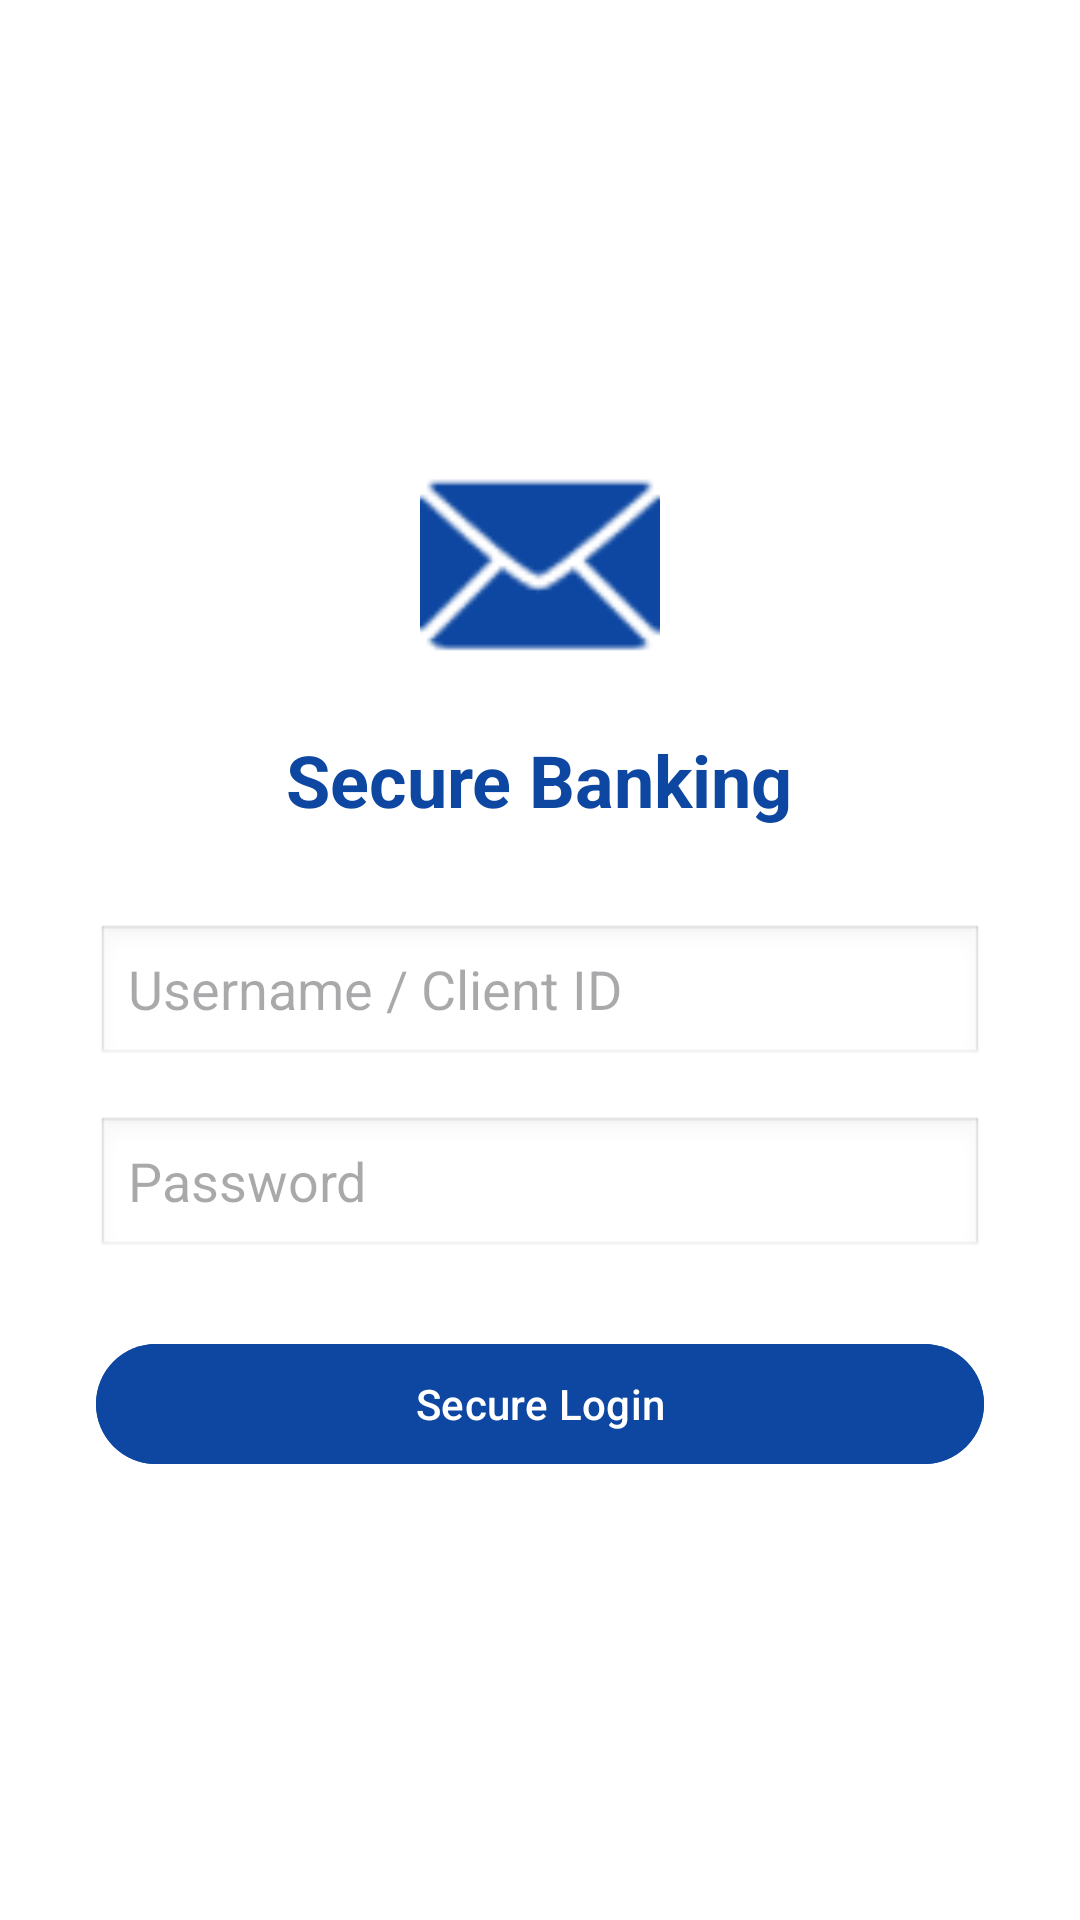

Named icons in this screenshot (1080*1920) and their bounding boxes, (x1, y1, x2, y2):
email: (420, 480, 660, 651)
